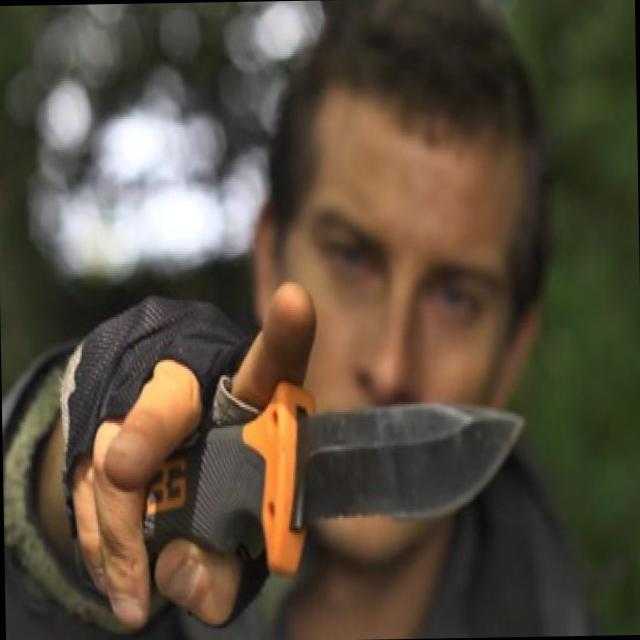Knife: (103, 372, 550, 571)
